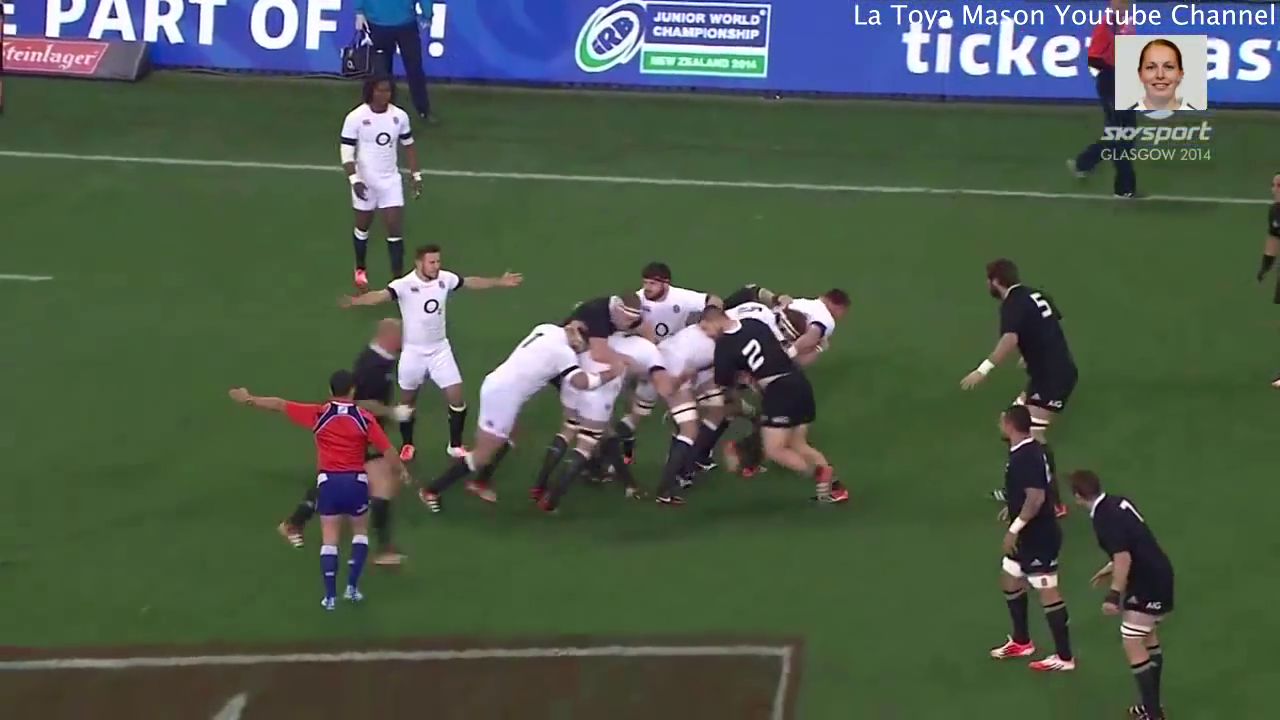player: (317, 230, 533, 485), (219, 362, 401, 629), (645, 277, 820, 511), (402, 314, 592, 520), (694, 290, 856, 516), (957, 240, 1081, 509), (972, 399, 1083, 688), (1061, 455, 1182, 720), (516, 323, 648, 548), (318, 59, 425, 299), (765, 268, 853, 370), (608, 251, 702, 344), (552, 277, 652, 348)
